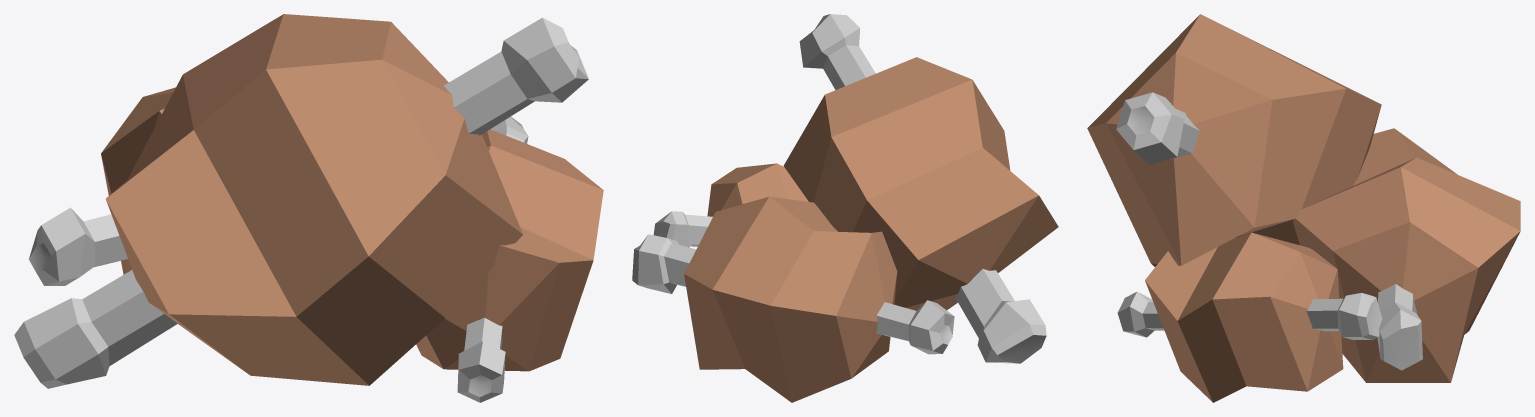
File: foodpickup.fbx
3 renders of one model, left to right at view 1: azimuth 30°, elevation 25°; view 2: azimuth 150°, elevation 25°; view 3: azimuth 270°, elevation 25°, orthographic. The views are drawn at different scales.
Parts seen in each view (by area): view 1: polySurface22; view 2: polySurface22; view 3: polySurface22.
Boxes of the visible parts, x1,y1,x2,y2 form: polySurface22: [14, 14, 603, 402]; polySurface22: [632, 14, 1058, 402]; polySurface22: [1087, 14, 1520, 402].
Bounding box in the file's own units: 3.86 × 2.66 × 3.54.
